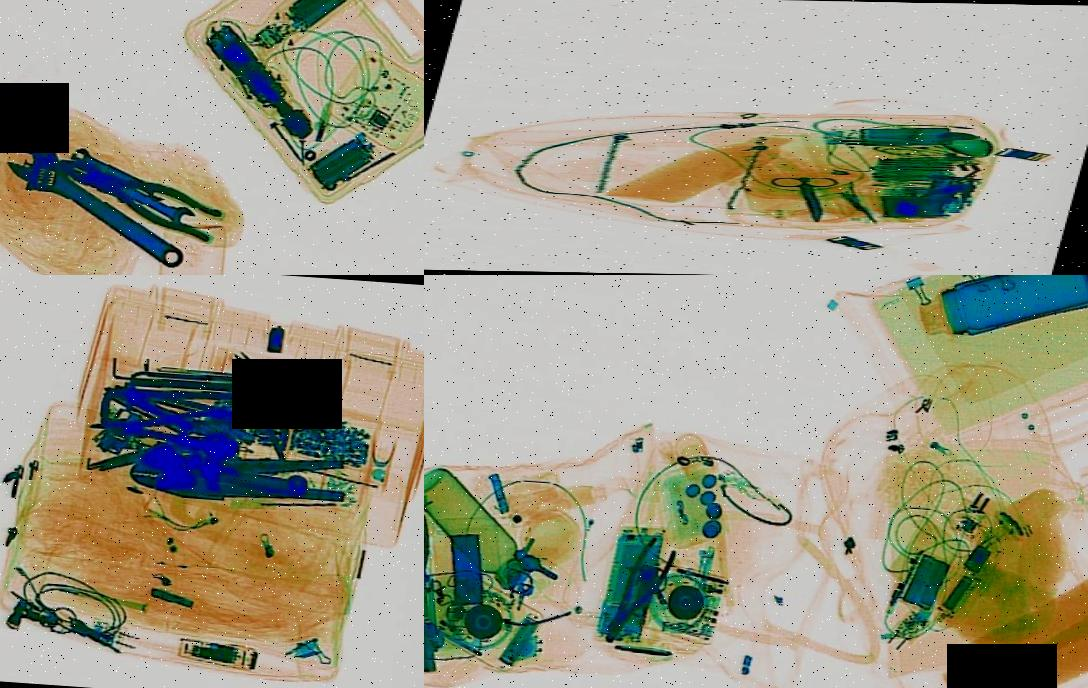Pliers: (48, 142, 232, 244), (128, 442, 352, 513), (212, 337, 336, 465), (585, 530, 691, 648), (90, 400, 246, 456), (424, 509, 444, 636)
Scissors: (760, 173, 865, 225)
Wrench: (0, 124, 206, 275), (68, 140, 173, 204), (116, 178, 201, 227)
